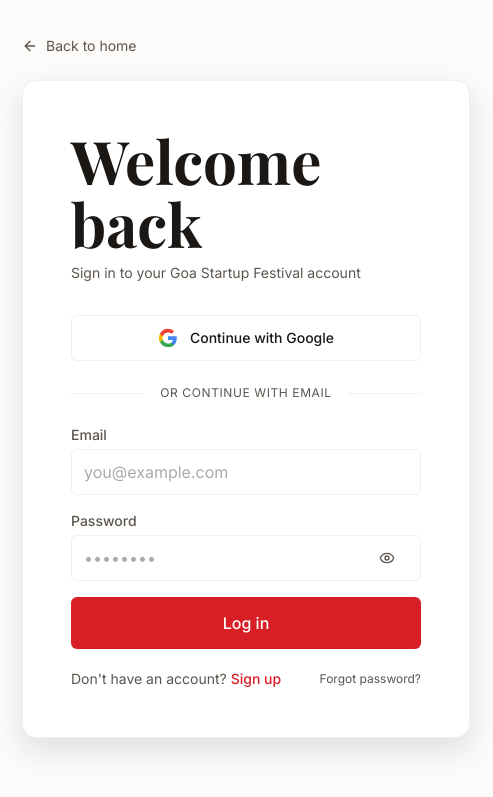
Test: Auth Pages – Invalid fields show inline errors without API calls › login: shows errors for empty fields without calling signIn
The width and height of the screenshot is (493, 797).
Step 1. Click the button "Log in" → [246, 623], box [71,597,421,649]
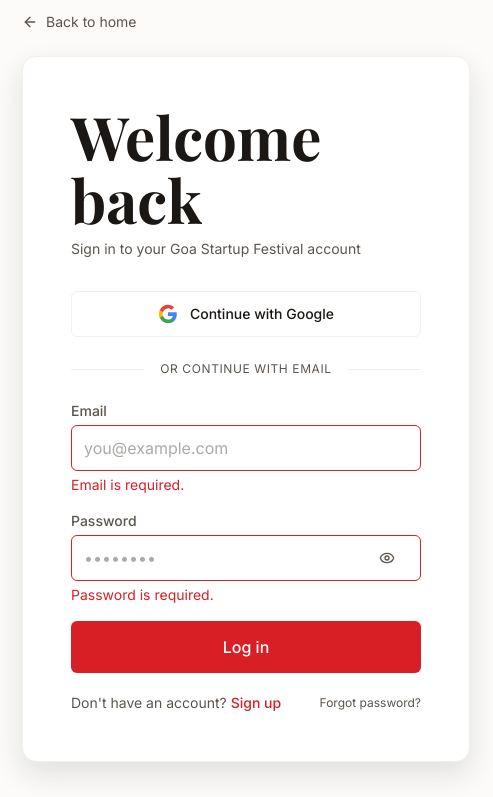
Expected: the text "Email is required." is shown, [71,476,184,493]
Expected: the text "Password is required." is shown, [71,586,214,603]
